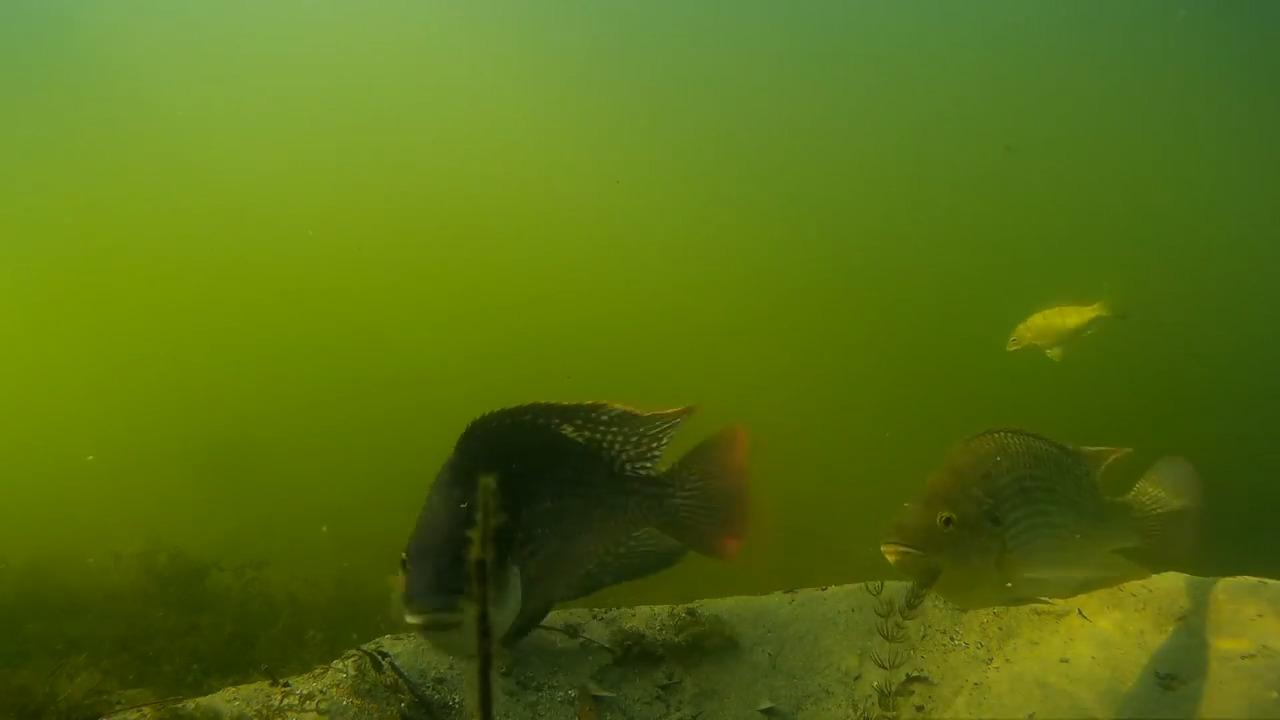Tilapia: (405, 394, 756, 658), (887, 414, 1204, 622), (1005, 286, 1130, 382)
